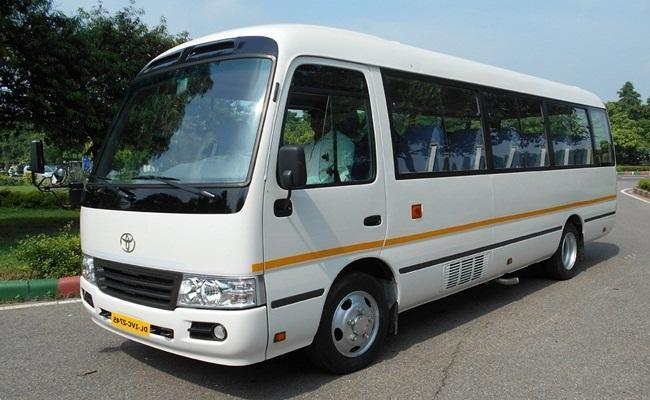Bus: (78, 24, 618, 374)
